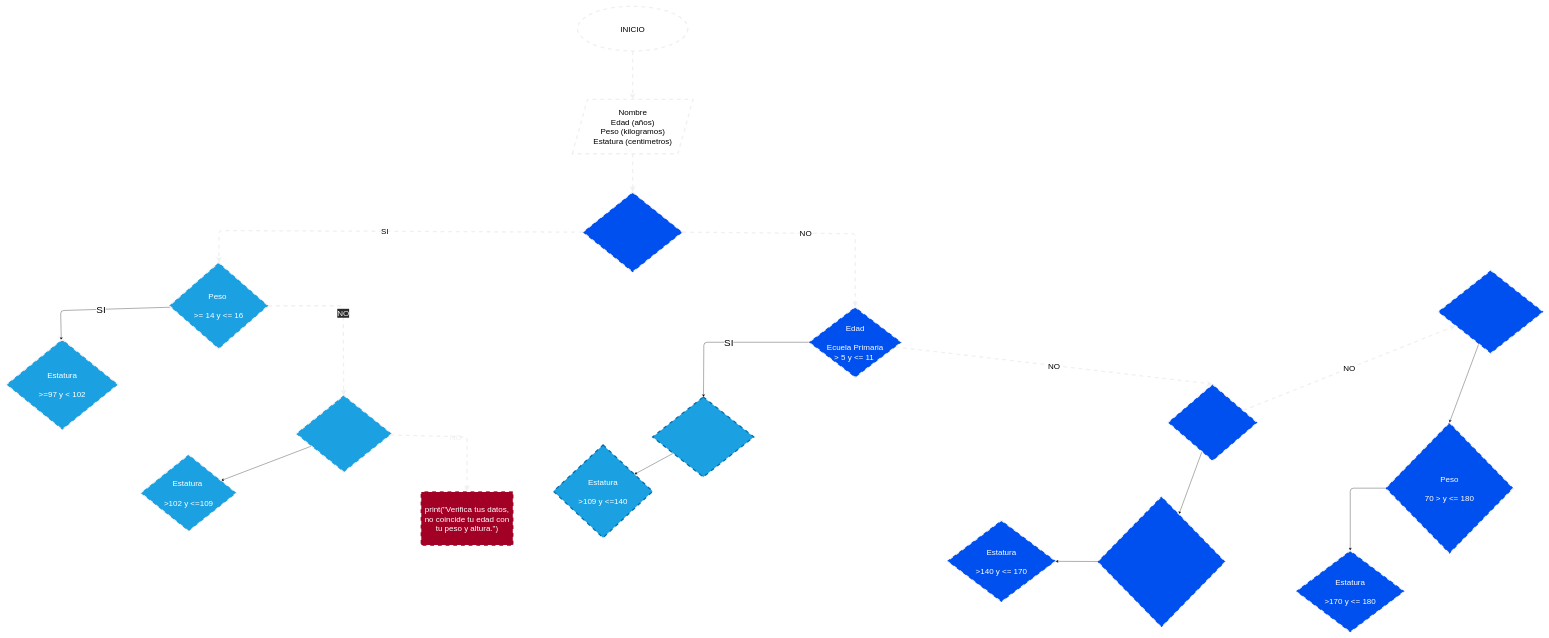
This 1549x638 diagram has some shape labels left out. The shapes that lost their labels are listed below. From the top down, each one's box as (x1, y1, x2, y2) in pixels, then its label:
(582, 191, 683, 273): Edad Preescolar >= 3 y <= 5
(1437, 269, 1544, 354): Edad Adulto Joven > 19 <= 26
(295, 395, 392, 473): Peso > 16 y <= 18
(652, 396, 754, 477): Peso >18 y <= 40
(1167, 383, 1258, 461): Edad Adolescentes > 11 <= 19
(1097, 495, 1226, 628): Peso 40 > y <= 70
